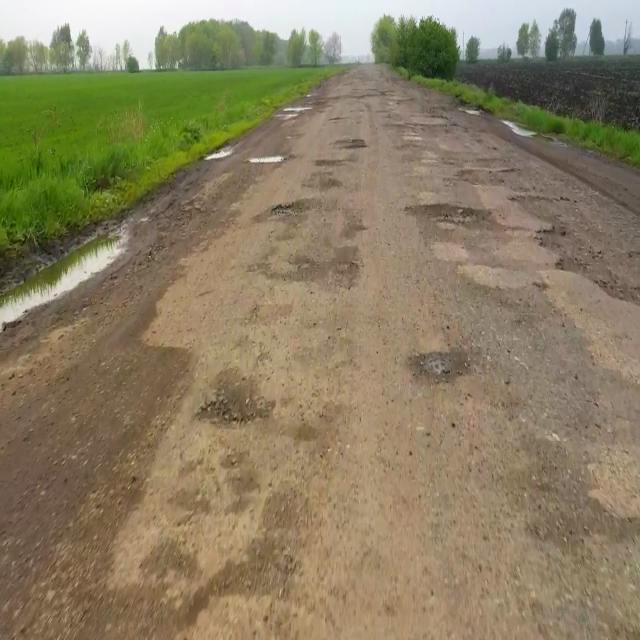Pothole: (270, 59, 342, 132), (258, 179, 358, 225)
